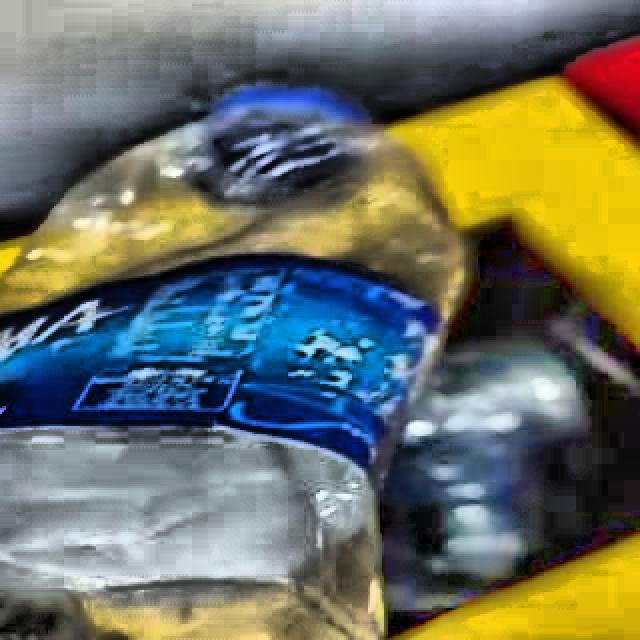plastic: (0, 77, 461, 640)
